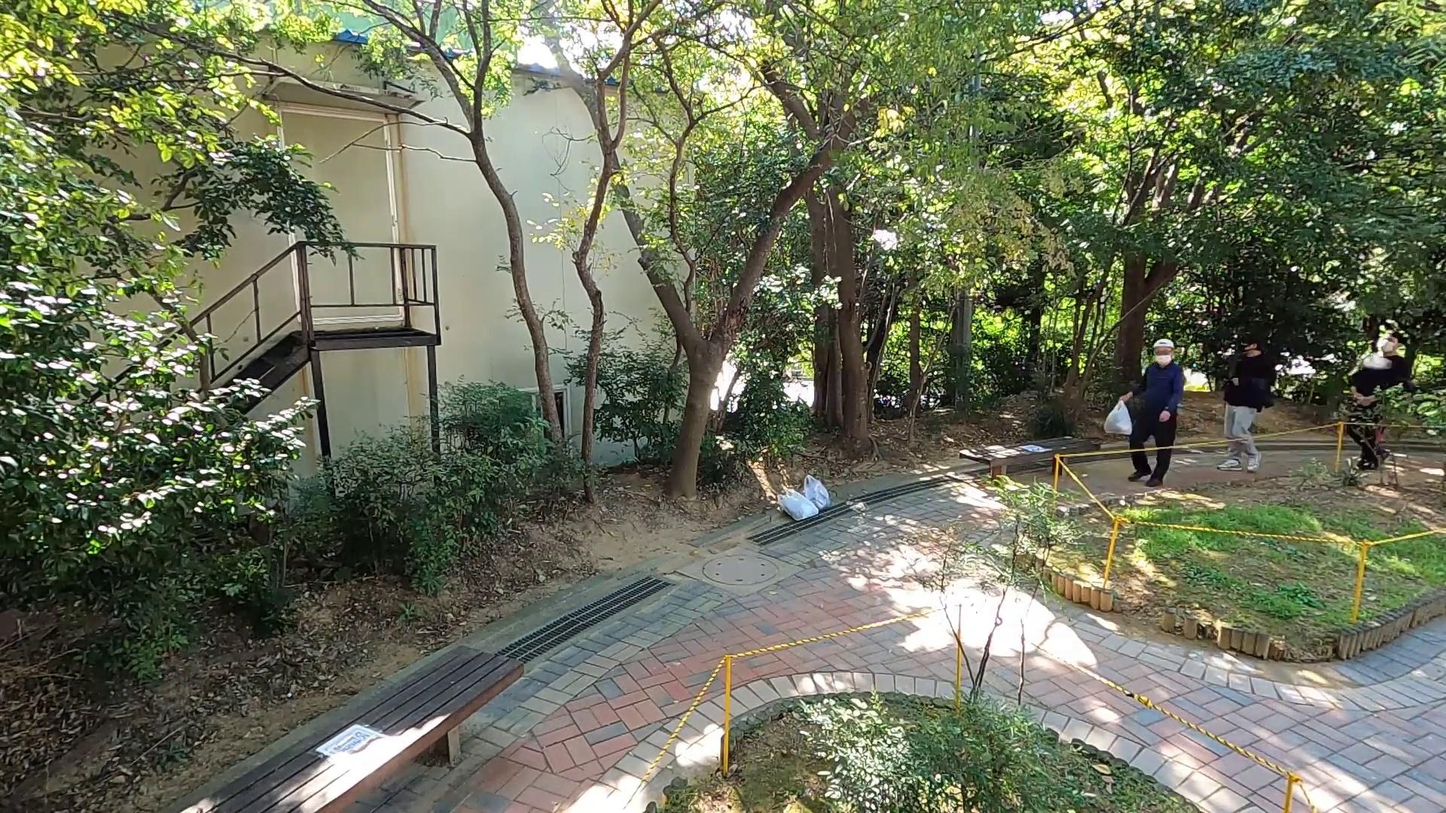person: (1340, 324, 1415, 469), (1118, 333, 1184, 490), (1214, 333, 1271, 477)
trash: (774, 480, 818, 526), (800, 468, 831, 520), (1101, 397, 1137, 436)
